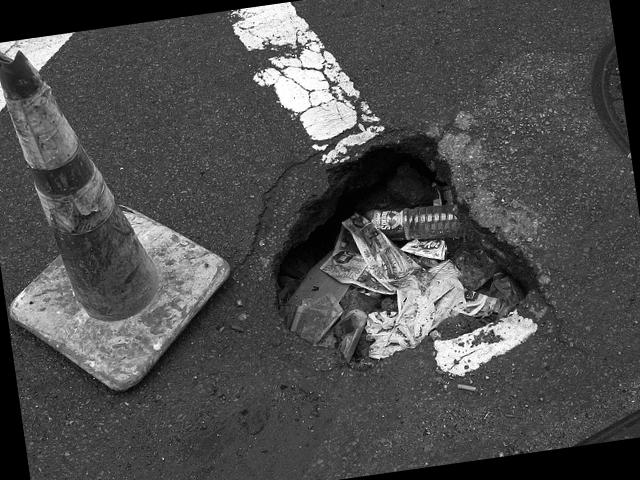Pothole: (235, 114, 578, 416)
